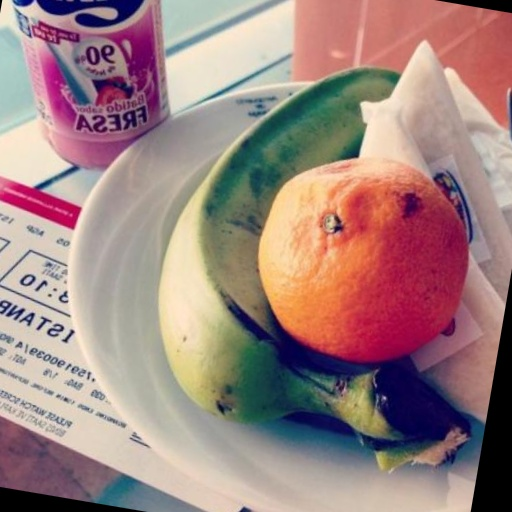fruit: (158, 68, 469, 468), (258, 158, 467, 362)
